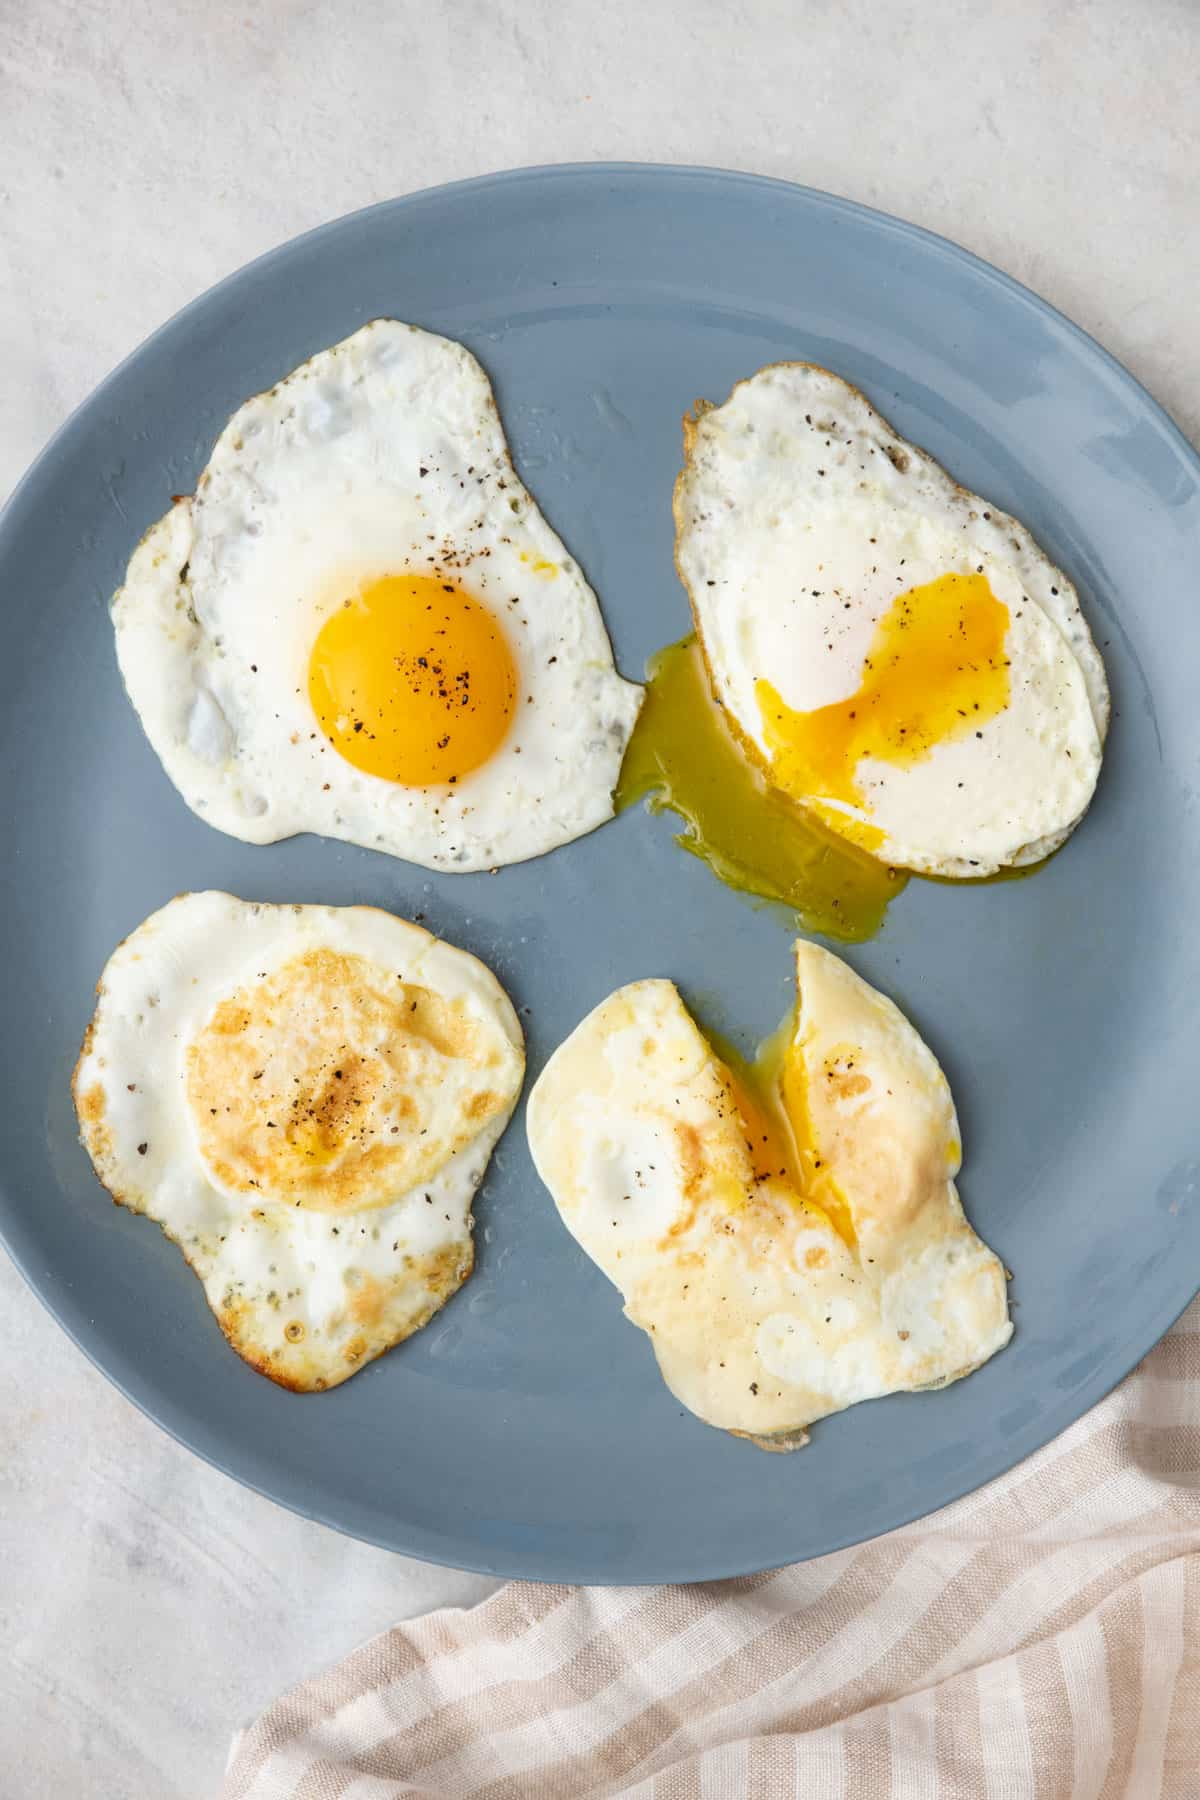Sunny Side Up: (96, 299, 648, 867), (521, 929, 1025, 1428), (72, 887, 524, 1398), (671, 346, 1094, 879)
